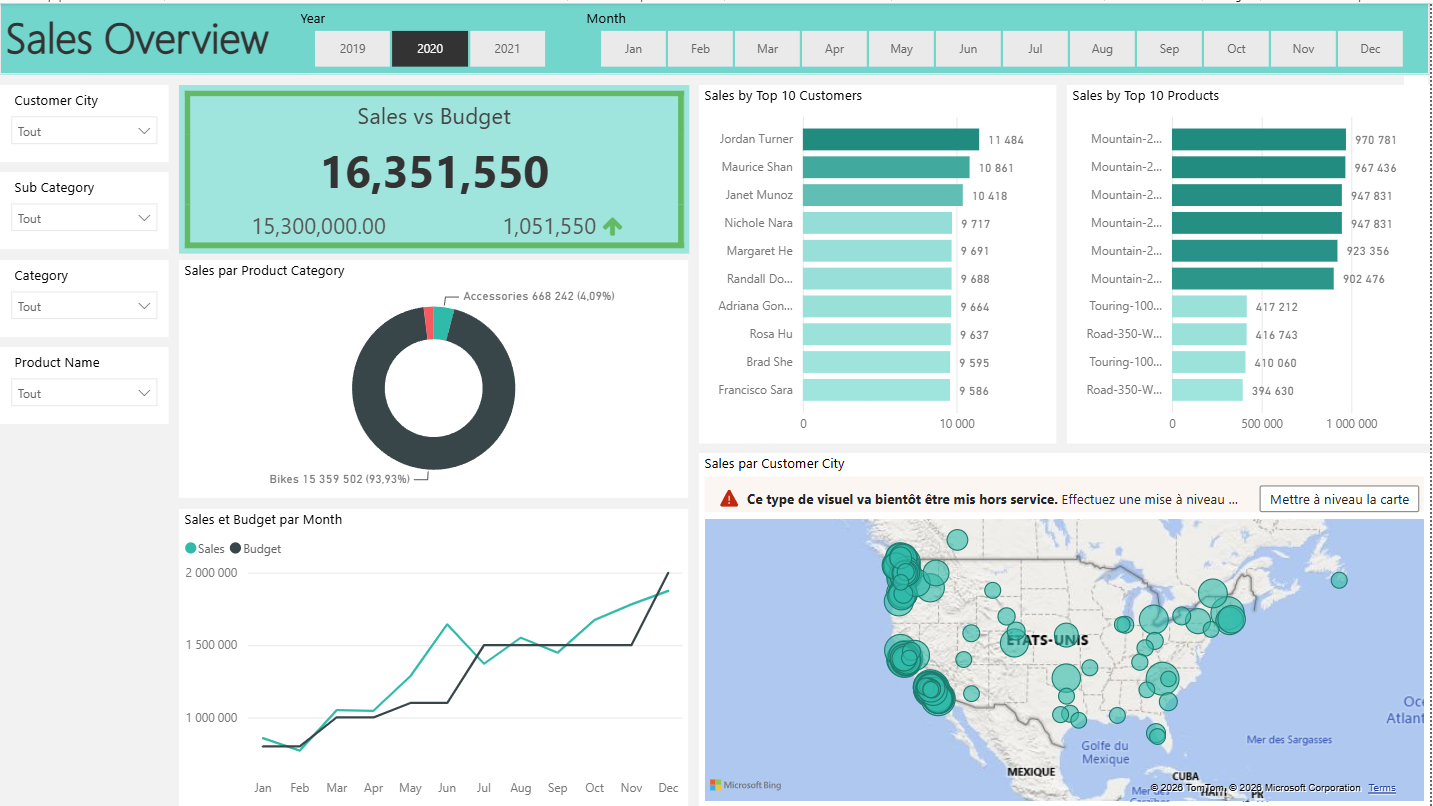

The dashboard page shown, as its layout file describes it:
{"tool":"powerbi","page":{"name":"Sales Overview","canvas":[1280,720],"ordinal":0},"visuals":[{"type":"textbox","box":[0,0,1280,64],"z":0},{"type":"slicer","fields":{"Values":["DIM_Calendar.Year"]},"box":[256,0,256,64],"z":1000},{"type":"slicer","fields":{"Values":["DIM_Calendar.MonthShort"]},"box":[512,0,768,64],"z":2000},{"type":"slicer","fields":{"Values":["DIM_Customers.Customer City"]},"box":[0,73,150.5,69.3],"z":3000},{"type":"slicer","fields":{"Values":["DIM_Products.Product Category"]},"box":[0,229.9,150.5,69.3],"z":4000},{"type":"slicer","fields":{"Values":["DIM_Products.Product Name"]},"box":[0,308.4,150.5,69.3],"z":5000},{"type":"slicer","fields":{"Values":["DIM_Products.Sub Category"]},"box":[0,151.4,150.5,69.3],"z":6000},{"type":"barChart","title":"Sales by Top 10 Products","fields":{"Category":["DIM_Products.Product Name"],"Y":["Analysis Metrics.Sales"]},"box":[955.2,73,324.8,321.1],"z":7000},{"type":"lineChart","fields":{"Category":["DIM_Calendar.MonthShort"],"Y":["Analysis Metrics.Sales","Analysis Metrics.Budget"]},"box":[160.7,452.8,456.3,267.2],"z":8000},{"type":"barChart","title":"Sales by Top 10 Customers","fields":{"Category":["DIM_Customers.Full Name"],"Y":["Analysis Metrics.Sales"]},"box":[625.9,73,320.2,321.1],"z":9000},{"type":"donutChart","fields":{"Y":["Analysis Metrics.Sales"],"Series":["DIM_Products.Product Category"]},"box":[160.6,229.9,456.2,213.5],"z":10000},{"type":"map","fields":{"Category":["DIM_Customers.Customer City"],"Size":["Analysis Metrics.Sales"]},"box":[625.9,403.3,654.1,316.6],"z":12000},{"type":"BBED0A4D4D8D44CE93CF2DAFADEE466C","fields":{"actual":["Analysis Metrics.Sales"],"target2":["Analysis Metrics.Sales / Budget"],"target1":["Analysis Metrics.Budget"]},"box":[160.5,73.4,456.6,151.3],"z":13001}]}

Visuals, with their boxes in screenshot pixels (x1, y1, x2, y2), scaled from the page's 1280x720 canvas onto the 1433x806 screenshot:
textbox: 0 0 1432 72
slicer - DIM_Calendar.Year: 287 0 573 72
slicer - DIM_Calendar.MonthShort: 573 0 1432 72
slicer - DIM_Customers.Customer City: 0 82 168 159
slicer - DIM_Products.Product Category: 0 257 168 335
slicer - DIM_Products.Product Name: 0 345 168 423
slicer - DIM_Products.Sub Category: 0 169 168 247
"Sales by Top 10 Products" barChart: 1069 82 1432 441
lineChart - DIM_Calendar.MonthShort x Analysis Metrics.Sales: 180 507 691 805
"Sales by Top 10 Customers" barChart: 701 82 1059 441
donutChart - Analysis Metrics.Sales x DIM_Products.Product Category: 180 257 691 496
map - DIM_Customers.Customer City x Analysis Metrics.Sales: 701 451 1432 805
BBED0A4D4D8D44CE93CF2DAFADEE466C - Analysis Metrics.Sales x Analysis Metrics.Sales / Budget: 180 82 691 252
